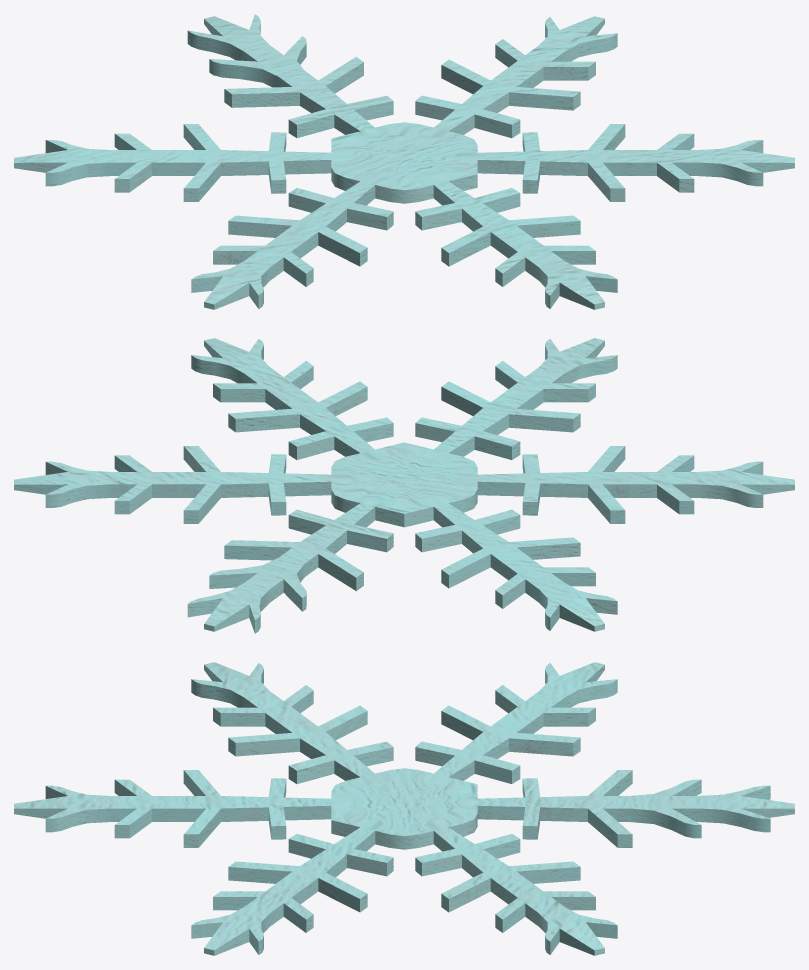
File: snow.glb
3 views of the same model, one above another, from view 1: azimuth 30°, elevation 25°; view 2: azimuth 150°, elevation 25°; view 3: azimuth 270°, elevation 25° (orthographic).
Visible parts, largest first — view 1: Object_2; view 2: Object_2; view 3: Object_2.
Boxes of the visible parts, x1,y1,x2,y2 form: Object_2: (14, 14, 794, 309); Object_2: (14, 338, 794, 633); Object_2: (14, 662, 794, 955).
Bounding box in the file's own units: 4.57 × 0.1 × 5.23.
1 material, 1 textured.
